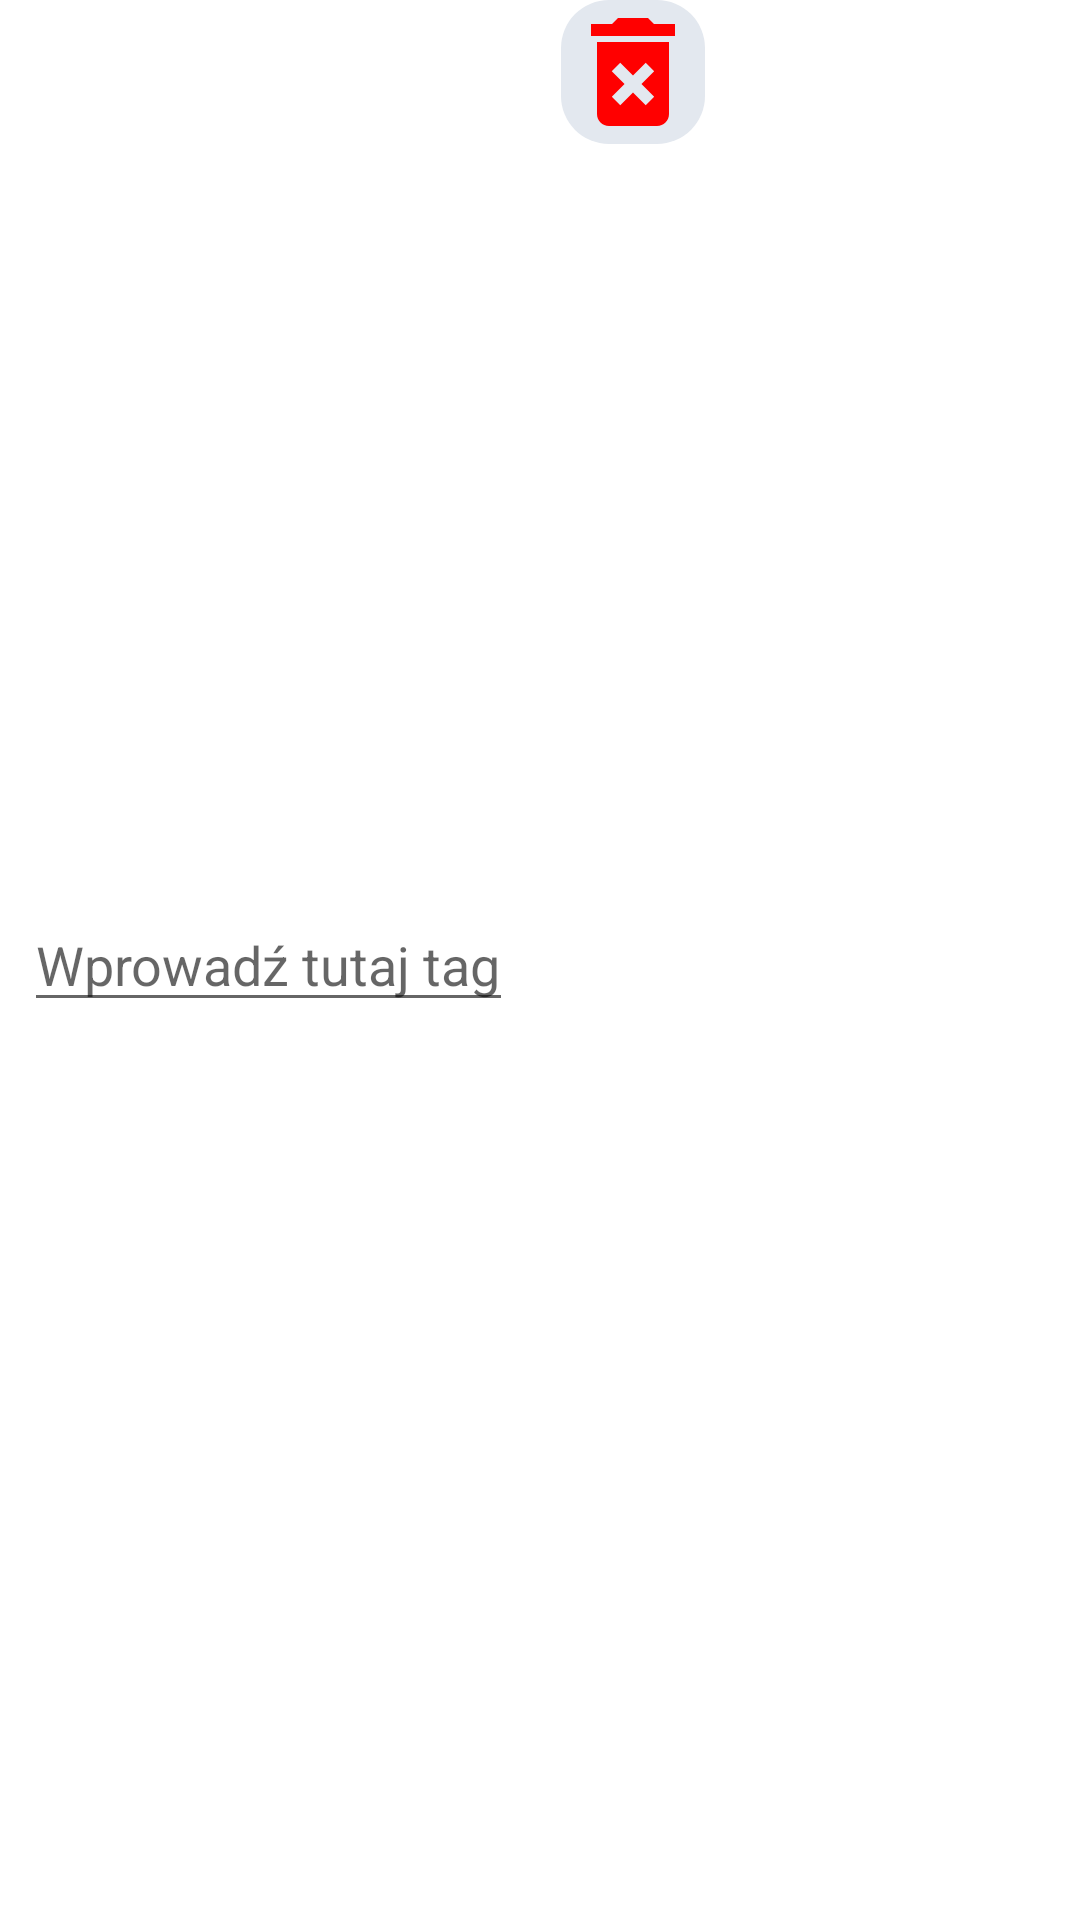

Named icons in this screenshot (1080w x 1920h) and their bounding boxes, [x1, y1, x2, y2]:
delete forever: [561, 0, 705, 144]
